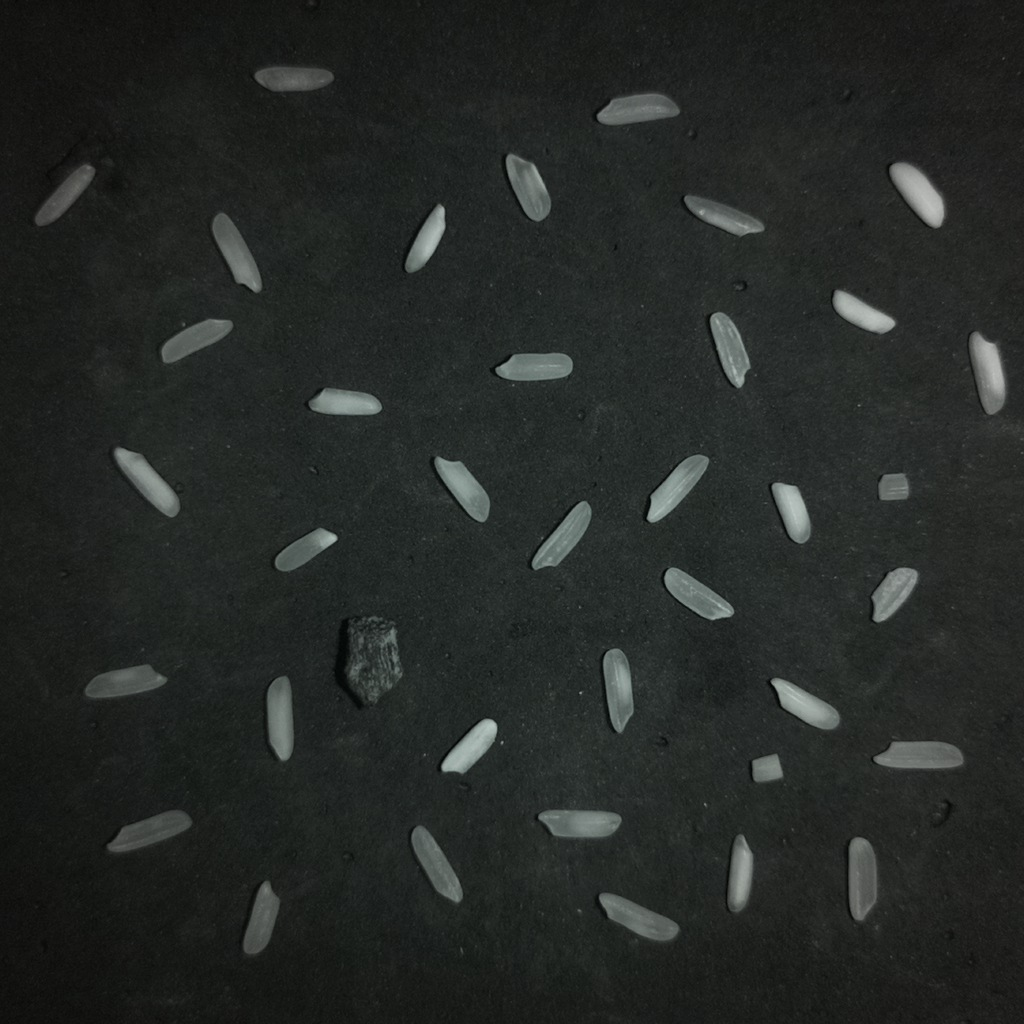broken: (274, 528, 337, 571), (751, 754, 783, 783), (878, 473, 909, 500)
chalky: (113, 447, 179, 516), (646, 454, 708, 522), (888, 162, 944, 227), (771, 678, 839, 729), (440, 718, 497, 774), (404, 204, 446, 273), (969, 332, 1004, 414), (832, 289, 895, 333), (266, 676, 294, 762), (771, 482, 810, 543), (538, 809, 620, 838), (727, 834, 753, 912), (308, 388, 381, 415)
foreign: (345, 616, 402, 706)
whole: (531, 501, 591, 569), (411, 826, 463, 903), (211, 212, 260, 292), (599, 893, 678, 941), (34, 163, 95, 225), (434, 456, 489, 522), (664, 567, 733, 619), (107, 810, 191, 852), (683, 194, 763, 236), (160, 319, 232, 363), (505, 153, 550, 221), (709, 312, 749, 387), (85, 664, 166, 699), (243, 880, 280, 956), (596, 93, 679, 125), (872, 741, 963, 769), (871, 567, 918, 621), (603, 648, 633, 732), (848, 837, 877, 921), (494, 353, 572, 380), (253, 66, 333, 92)
